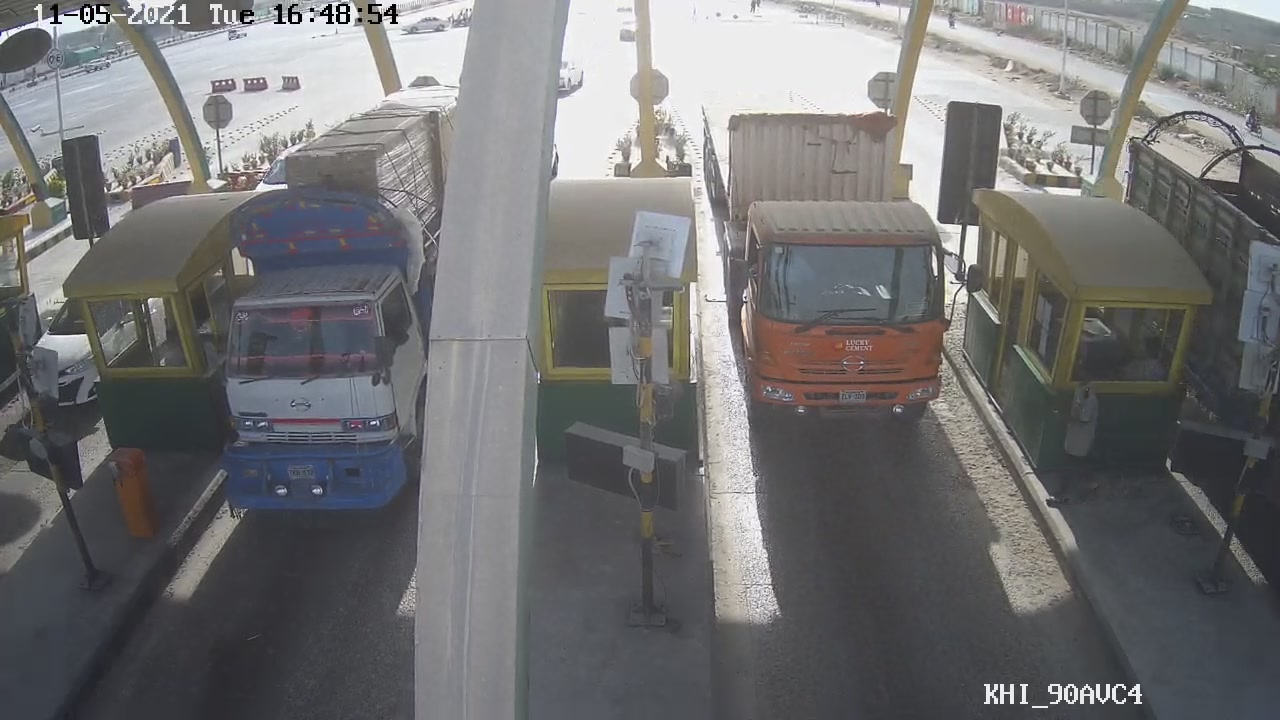F6: (694, 94, 960, 421)
